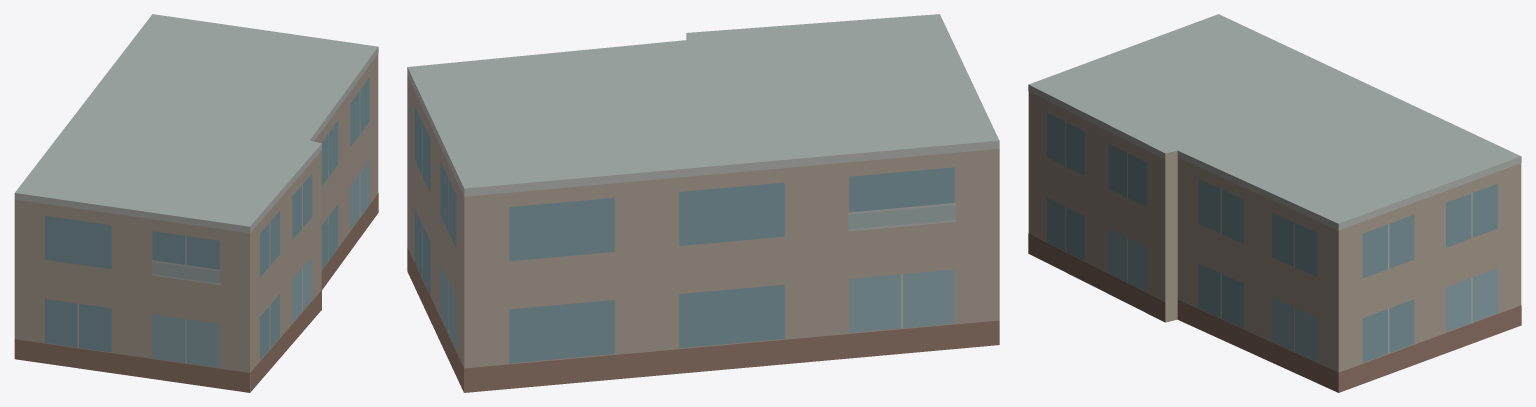
The model's file is survey-upis-32886459.glb.
3 views of the same model, side by side, from view 1: azimuth 30°, elevation 25°; view 2: azimuth 150°, elevation 25°; view 3: azimuth 270°, elevation 25° (orthographic). The views are drawn at different scales.
Parts seen in each view (by area): view 1: survey-upis-32886459.tmp; view 2: survey-upis-32886459.tmp; view 3: survey-upis-32886459.tmp.
Part boxes in pixels (x1=…): survey-upis-32886459.tmp: x1=14, y1=14, x2=378, y2=392; survey-upis-32886459.tmp: x1=407, y1=14, x2=999, y2=392; survey-upis-32886459.tmp: x1=1028, y1=14, x2=1521, y2=392.
Size of the model in its own units: 16.24 by 6.1 by 16.13.
